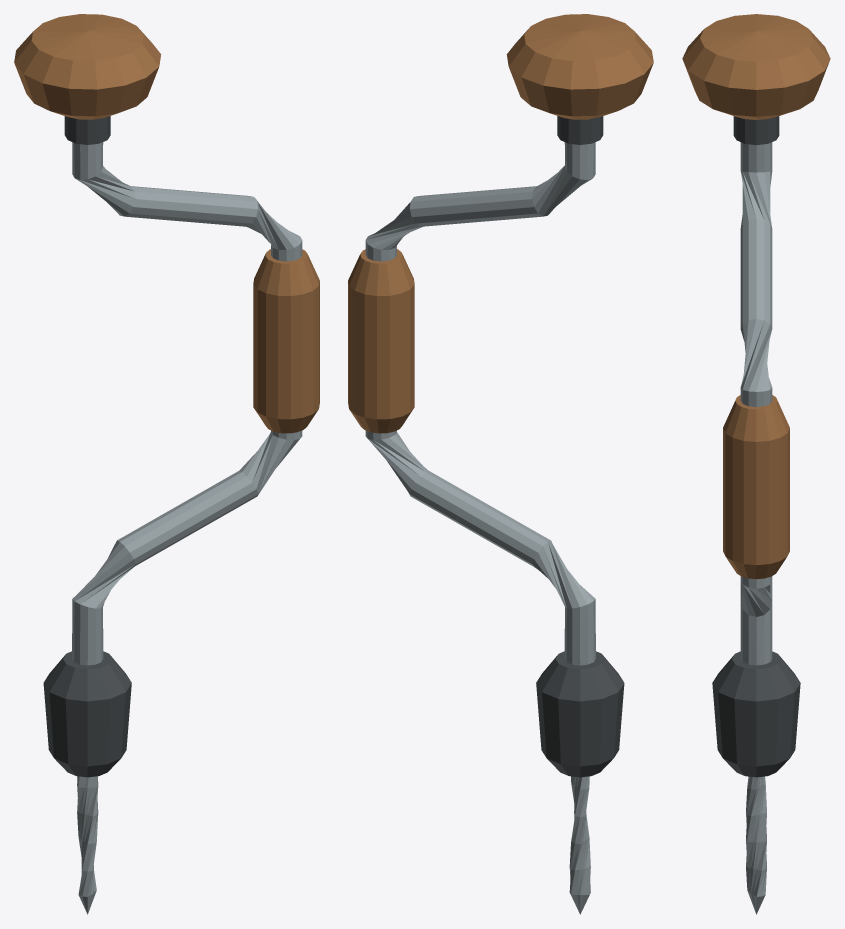
The picture shows the model from 3 angles, left to right: view 1: azimuth 30°, elevation 25°; view 2: azimuth 150°, elevation 25°; view 3: azimuth 270°, elevation 25°; orthographic projection.
Visible parts, largest first — view 1: WholeOffsetSweepCrank, WholePalmPressureHead, WholeLongSweepHandGrip, WholeFacetedChuck, WholeFixedBluntTwistBit, FixedUpperNeckCollar; view 2: WholeOffsetSweepCrank, WholePalmPressureHead, WholeLongSweepHandGrip, WholeFacetedChuck, WholeFixedBluntTwistBit, FixedUpperNeckCollar; view 3: WholePalmPressureHead, WholeLongSweepHandGrip, WholeOffsetSweepCrank, WholeFacetedChuck, WholeFixedBluntTwistBit, FixedUpperNeckCollar.
Boxes of the visible parts, x1,y1,x2,y2 form: WholeOffsetSweepCrank: (72, 142, 302, 665); WholePalmPressureHead: (14, 14, 161, 119); WholeLongSweepHandGrip: (253, 249, 319, 433); WholeFacetedChuck: (43, 651, 131, 777); WholeFixedBluntTwistBit: (77, 776, 98, 914); FixedUpperNeckCollar: (64, 116, 110, 144); WholeOffsetSweepCrank: (365, 142, 595, 665); WholePalmPressureHead: (506, 14, 653, 119); WholeLongSweepHandGrip: (348, 249, 414, 433); WholeFacetedChuck: (536, 651, 624, 777); WholeFixedBluntTwistBit: (569, 776, 590, 914); FixedUpperNeckCollar: (557, 116, 603, 144); WholePalmPressureHead: (682, 14, 830, 119); WholeLongSweepHandGrip: (723, 395, 789, 579); WholeOffsetSweepCrank: (740, 142, 772, 665); WholeFacetedChuck: (712, 651, 800, 777); WholeFixedBluntTwistBit: (746, 776, 766, 914); FixedUpperNeckCollar: (733, 116, 779, 145).
Size of the model in its own units: 0.191 by 0.552 by 0.084.
